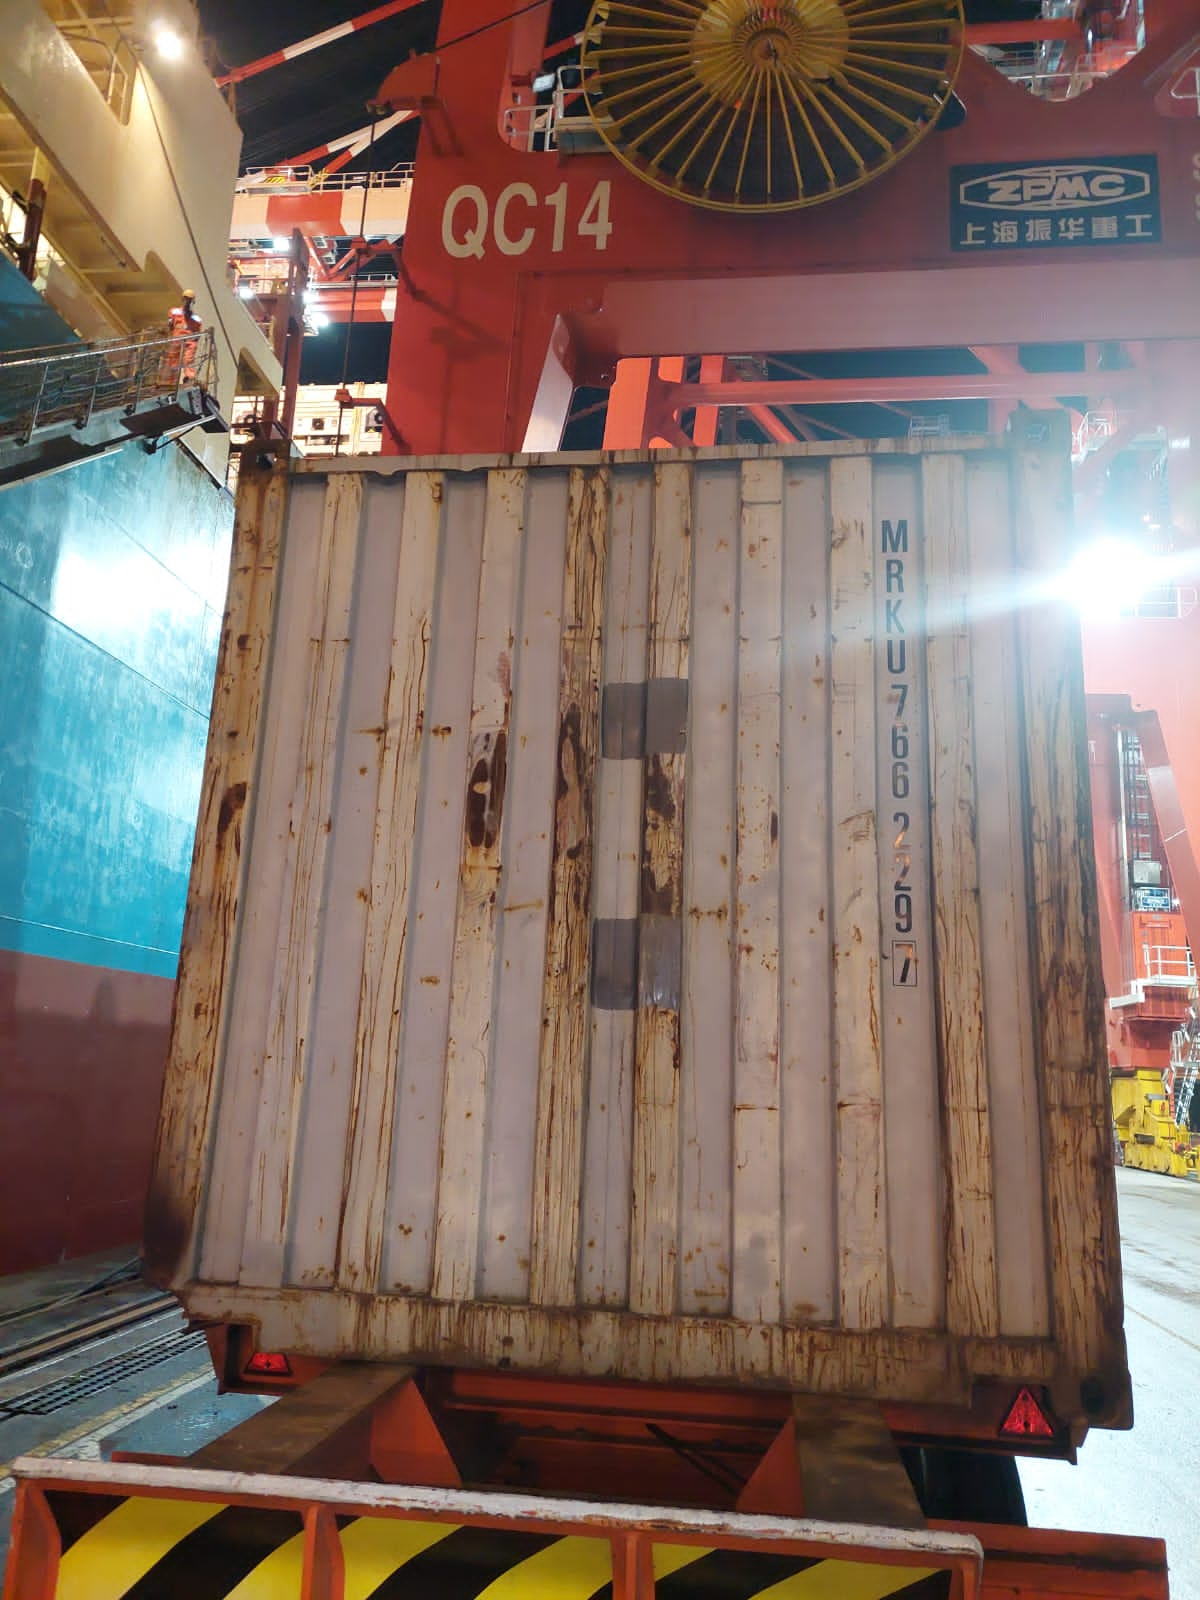rust: (450, 703, 667, 979), (1018, 801, 1097, 1301)
